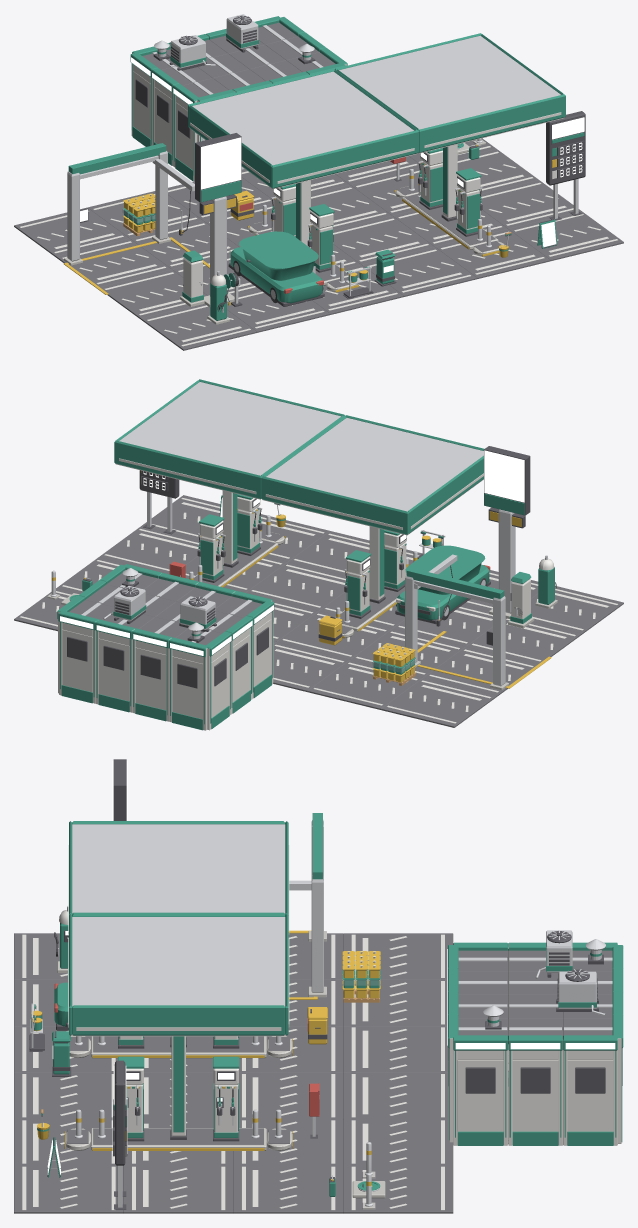
File: filling-station-forecourt.glb
The picture shows the model from 3 angles, top to bottom: view 1: azimuth 30°, elevation 25°; view 2: azimuth 150°, elevation 25°; view 3: azimuth 270°, elevation 25°; orthographic projection. The views are drawn at different scales.
Visible parts, largest first — view 1: 000-forecourt-paving-tile/0, 024-forecourt-canopy-section/5, 024-forecourt-canopy-section/3, 000-forecourt-paving-tile/1, 024-forecourt-canopy-section/1, 024-forecourt-canopy-section/4, 026-pump-island-kerb/1, 024-forecourt-canopy-section/0; view 2: 000-forecourt-paving-tile/0, 024-forecourt-canopy-section/5, 024-forecourt-canopy-section/3, 000-forecourt-paving-tile/1, 024-forecourt-canopy-section/1, 024-forecourt-canopy-section/4, 026-pump-island-kerb/1, 024-forecourt-canopy-section/0; view 3: 000-forecourt-paving-tile/0, 024-forecourt-canopy-section/5, 000-forecourt-paving-tile/1, 024-forecourt-canopy-section/3, 024-forecourt-canopy-section/1, 026-pump-island-kerb/1, 024-forecourt-canopy-section/0, 024-forecourt-canopy-section/4.
Part boxes in pixels (x1,y1,x2,y2): 000-forecourt-paving-tile/0: [14, 22, 623, 350]; 024-forecourt-canopy-section/5: [67, 14, 578, 312]; 024-forecourt-canopy-section/3: [68, 16, 584, 320]; 000-forecourt-paving-tile/1: [20, 35, 617, 346]; 024-forecourt-canopy-section/1: [80, 15, 585, 306]; 024-forecourt-canopy-section/4: [80, 57, 584, 272]; 026-pump-island-kerb/1: [63, 144, 556, 305]; 024-forecourt-canopy-section/0: [64, 140, 504, 324]; 000-forecourt-paving-tile/0: [14, 495, 623, 727]; 024-forecourt-canopy-section/5: [50, 382, 547, 686]; 024-forecourt-canopy-section/3: [57, 379, 554, 730]; 000-forecourt-paving-tile/1: [20, 458, 617, 730]; 024-forecourt-canopy-section/1: [67, 446, 530, 688]; 024-forecourt-canopy-section/4: [60, 450, 524, 655]; 026-pump-island-kerb/1: [51, 471, 551, 688]; 024-forecourt-canopy-section/0: [47, 532, 557, 690]; 000-forecourt-paving-tile/0: [14, 933, 612, 1213]; 024-forecourt-canopy-section/5: [30, 820, 612, 1207]; 000-forecourt-paving-tile/1: [22, 845, 621, 1210]; 024-forecourt-canopy-section/3: [31, 813, 623, 1196]; 024-forecourt-canopy-section/1: [29, 759, 622, 1209]; 026-pump-island-kerb/1: [31, 930, 380, 1186]; 024-forecourt-canopy-section/0: [57, 931, 385, 1209]; 024-forecourt-canopy-section/4: [47, 760, 623, 1174].
Bounding box in the file's own units: 18.16 × 6.36 × 16.67.
